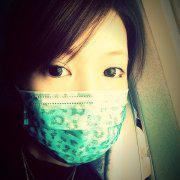OK: (26, 41, 131, 158)
